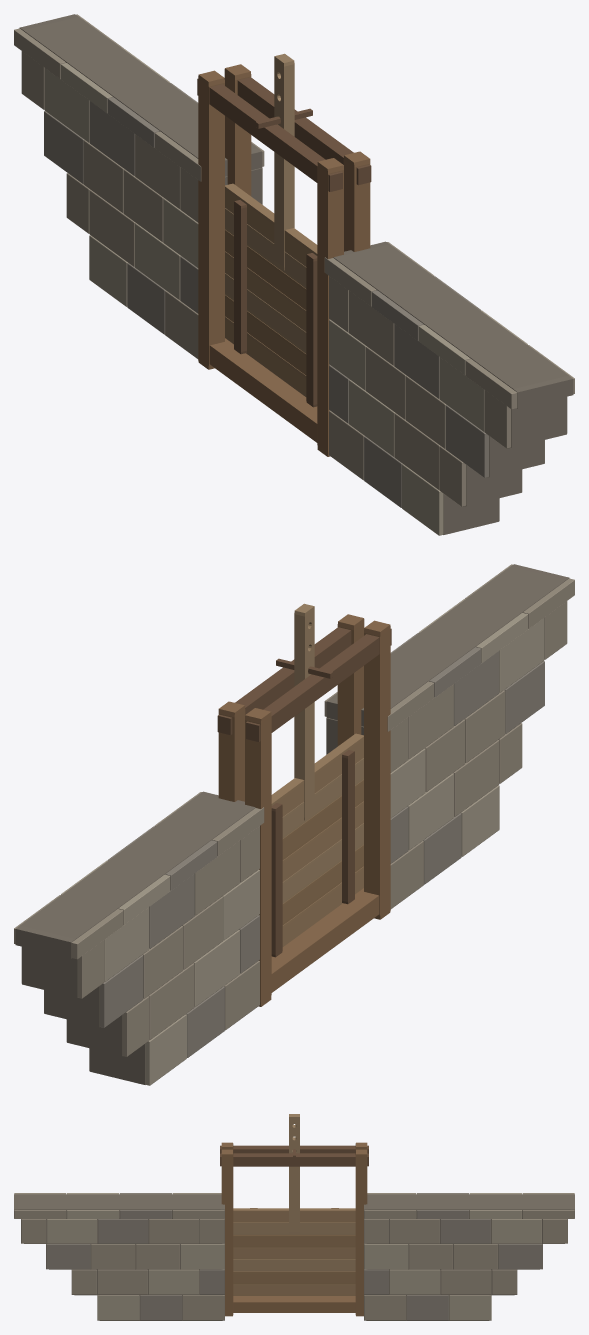
Rendered from EastGate_r004.glb.
The picture shows the model from 3 angles, top to bottom: view 1: azimuth 30°, elevation 25°; view 2: azimuth 150°, elevation 25°; view 3: azimuth 270°, elevation 25°; orthographic projection. The views are drawn at different scales.
Parts seen in each view (by area): view 1: GateMasonry-col, GateFrame-col, GateLeaf-col; view 2: GateMasonry-col, GateFrame-col, GateLeaf-col; view 3: GateMasonry-col, GateLeaf-col, GateFrame-col.
Boxes of the visible parts, left/top/right/bottom form: GateMasonry-col: left=14, top=14, right=574, bottom=535; GateFrame-col: left=197, top=64, right=371, bottom=456; GateLeaf-col: left=225, top=53, right=317, bottom=407; GateMasonry-col: left=14, top=564, right=574, bottom=1085; GateFrame-col: left=217, top=614, right=391, bottom=1006; GateLeaf-col: left=271, top=603, right=363, bottom=957; GateMasonry-col: left=14, top=1193, right=574, bottom=1320; GateLeaf-col: left=233, top=1114, right=355, bottom=1295; GateFrame-col: left=220, top=1142, right=368, bottom=1316.
Bounding box in the file's own units: 0.685 × 3.27 × 8.53.
